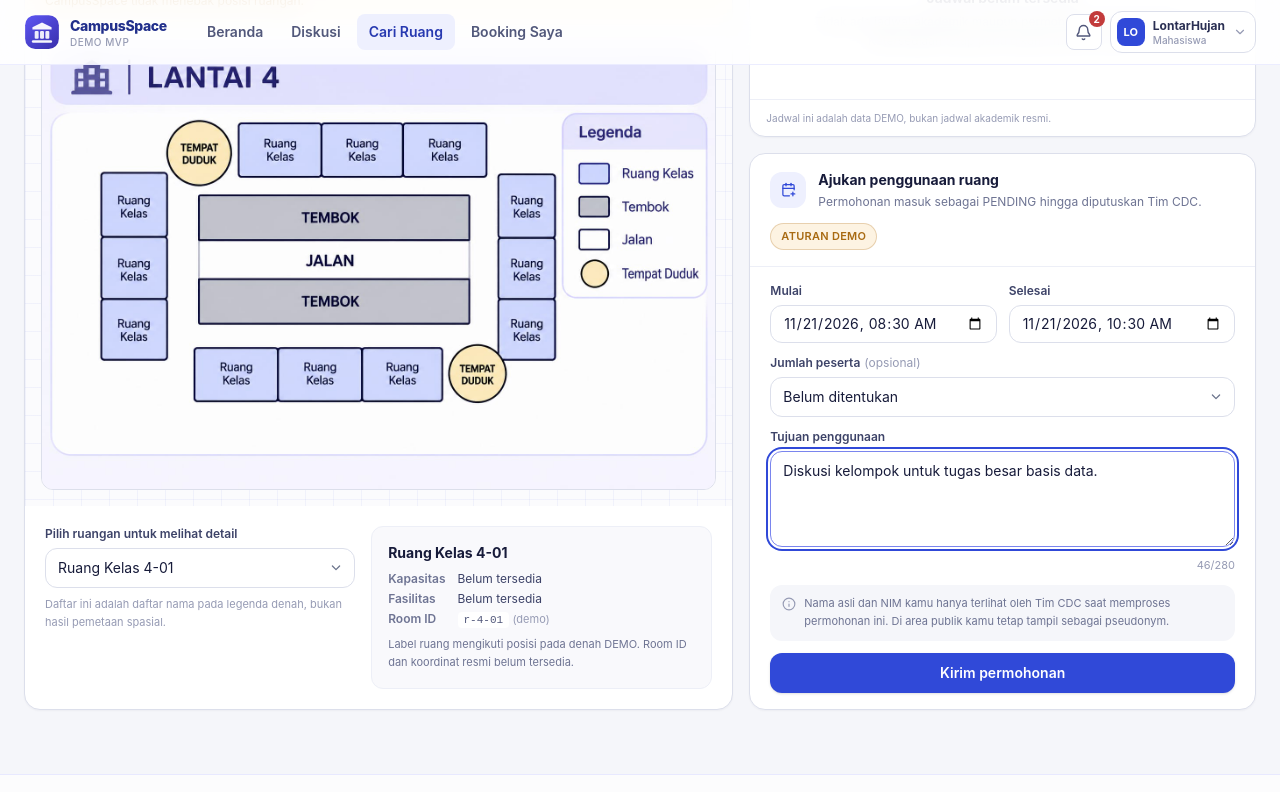
A · student journey › mengajukan booking dan melihat status Menunggu
Earlier steps of the test are not shown.
(page scrolled)
Click the button "Kirim permohonan" at {"x": 1003, "y": 673}, box top-left (770, 653), bottom-right (1235, 693)
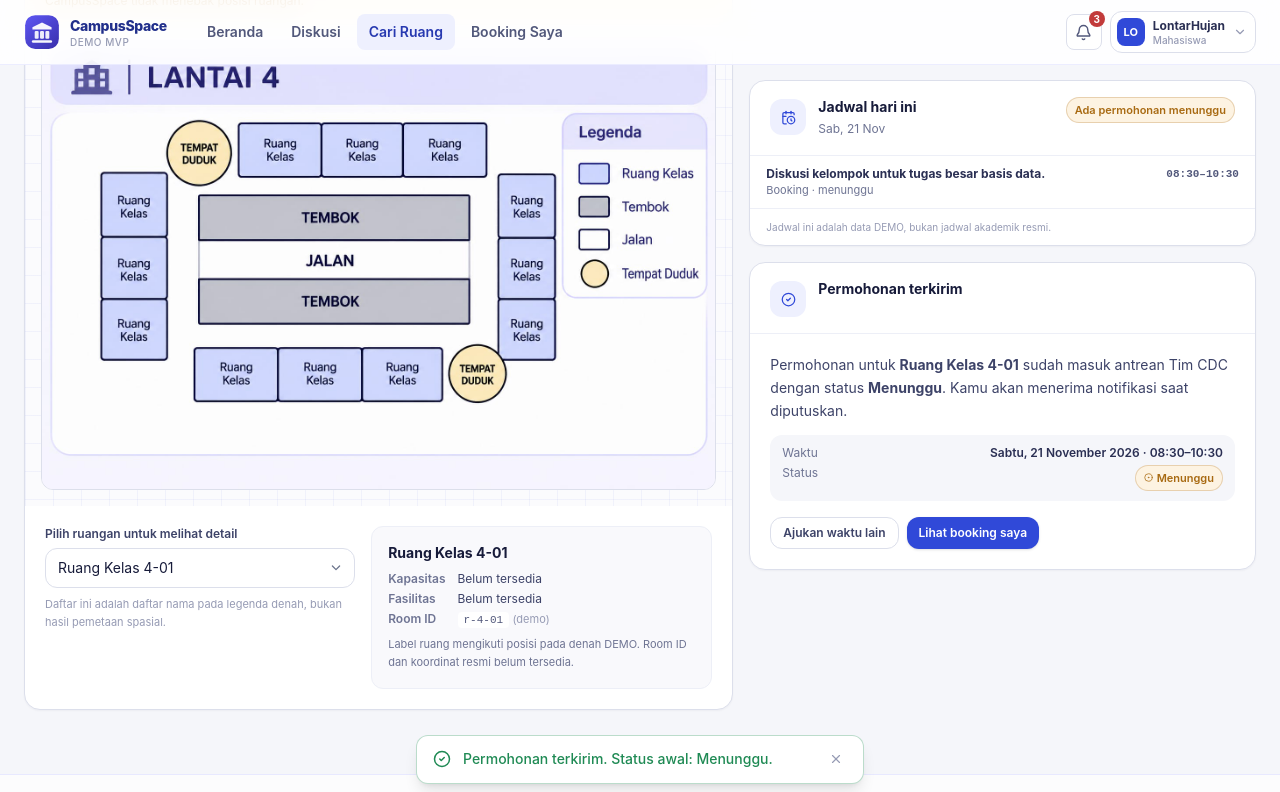
Expected: the heading "Permohonan terkirim" is shown, top-left (818, 279), bottom-right (962, 299)
Expected: the text "Menunggu" is shown, top-left (868, 379), bottom-right (942, 396)
